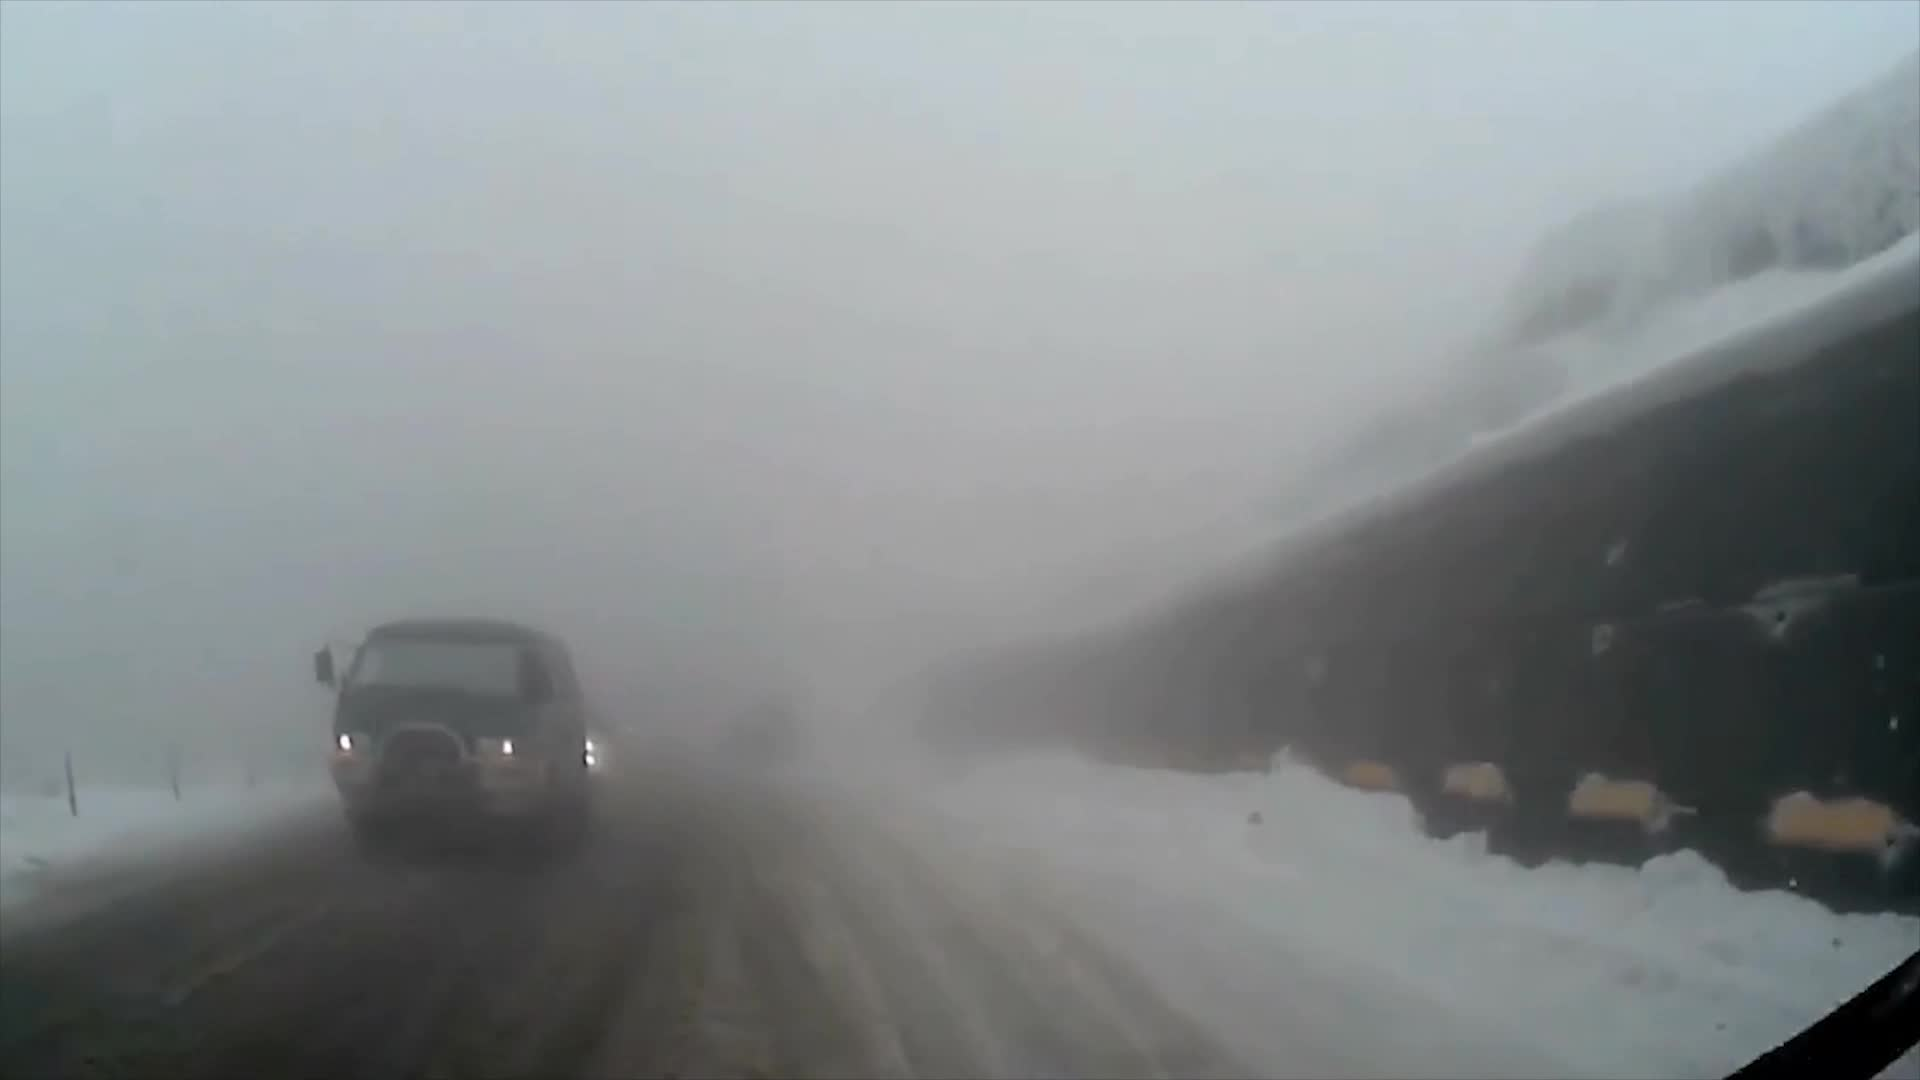vehicle: (309, 618, 593, 874)
